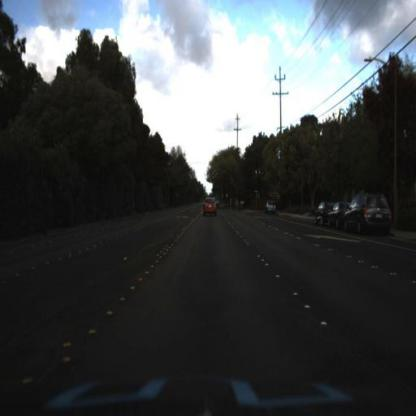car: (345, 192, 394, 235), (327, 201, 350, 228), (202, 196, 220, 226), (313, 197, 331, 227), (262, 199, 277, 215)
